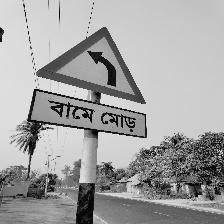Left-Turn: (29, 26, 147, 138)
